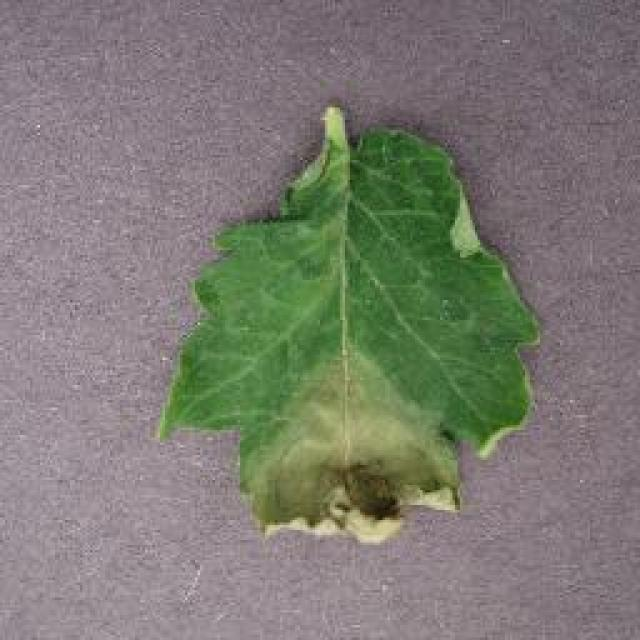Tomato Late Blight: (268, 367, 468, 555)
